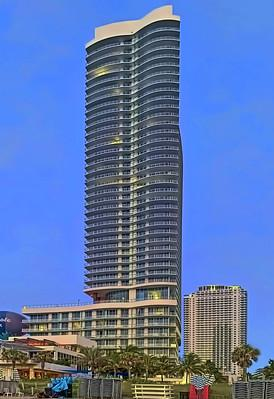building: (79, 3, 183, 363), (186, 282, 249, 380)
